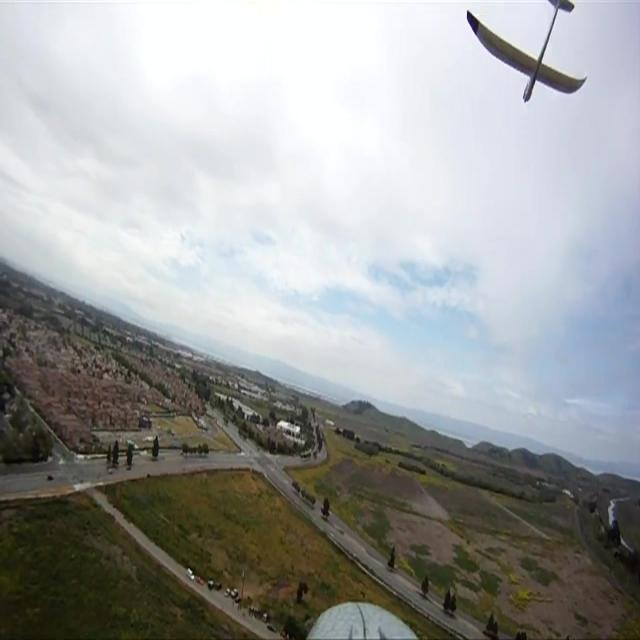iha: (496, 32, 558, 78)
